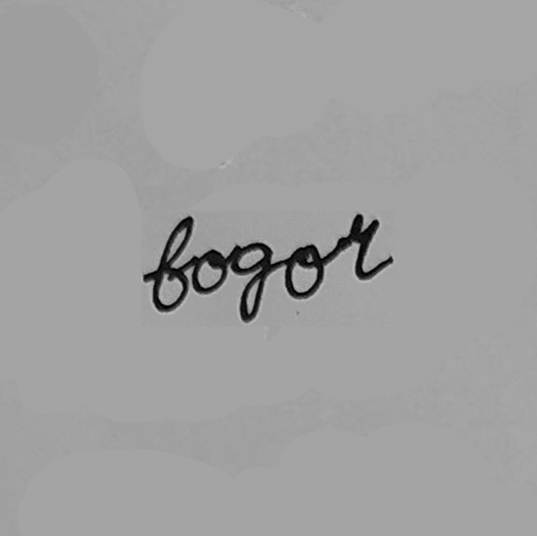b: (34, 188, 125, 387)
g: (191, 236, 284, 409)
o: (299, 238, 386, 362), (113, 251, 191, 353)
r: (404, 181, 519, 325)
